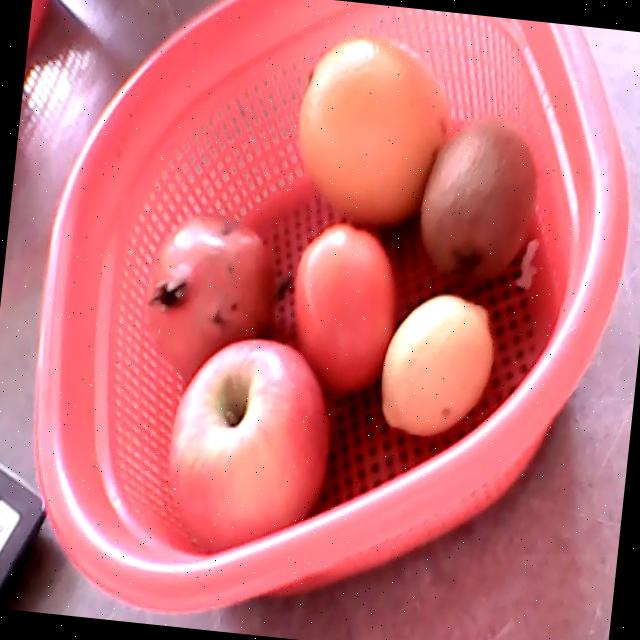apple: (168, 338, 330, 547)
kiwi: (421, 115, 537, 283)
lemon: (382, 294, 493, 435)
orange: (297, 33, 448, 226)
pomegranate: (141, 213, 274, 375)
tomato: (294, 224, 396, 396)
